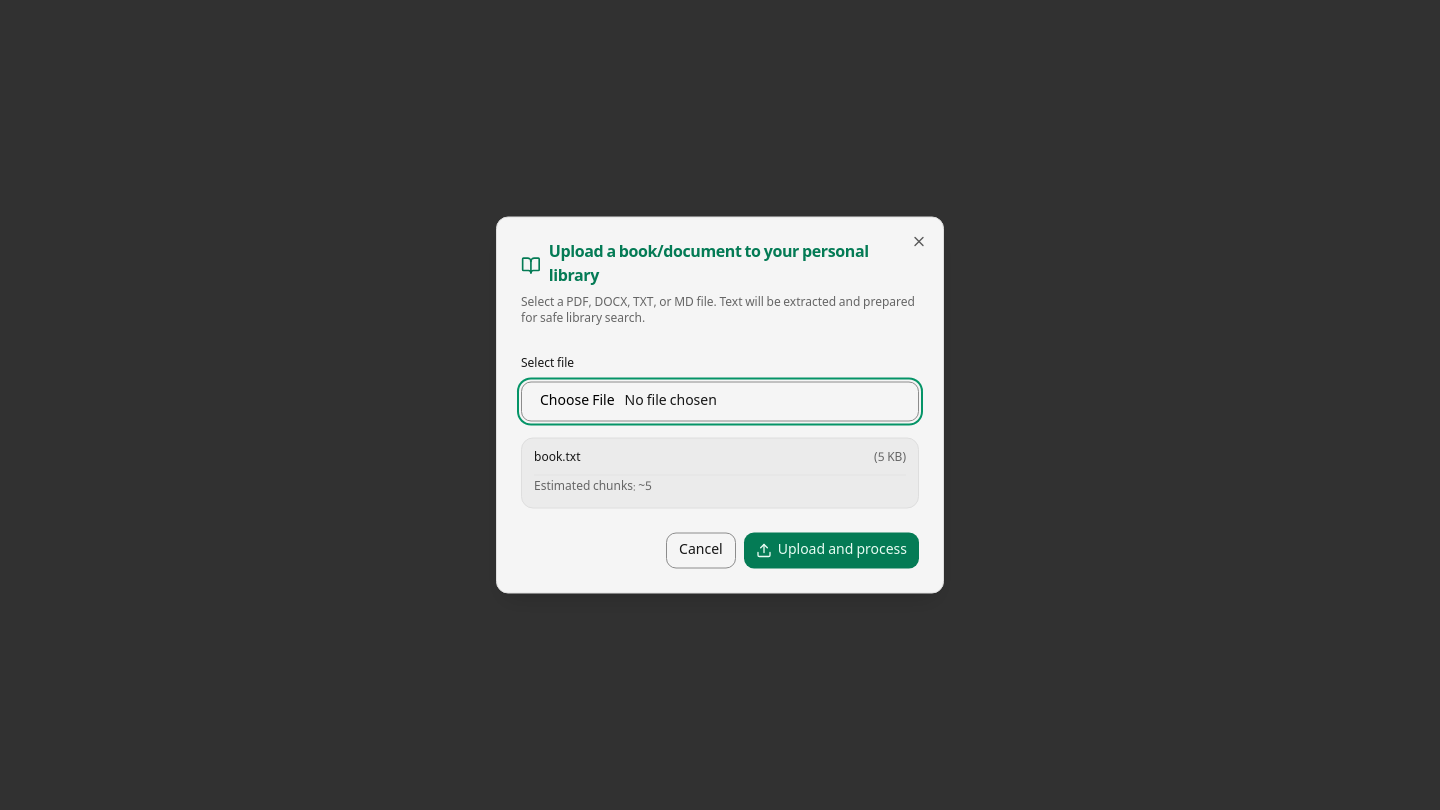
SourceUploadDialog — ingest failure feedback › shows the failure even if the ingest failed before reporting any progress
Earlier steps of the test are not shown.
What coordinates should you click on to do the following:
click the button "Upload and process"
I would click on:
 (831, 550)
Its box is [744, 532, 919, 568].
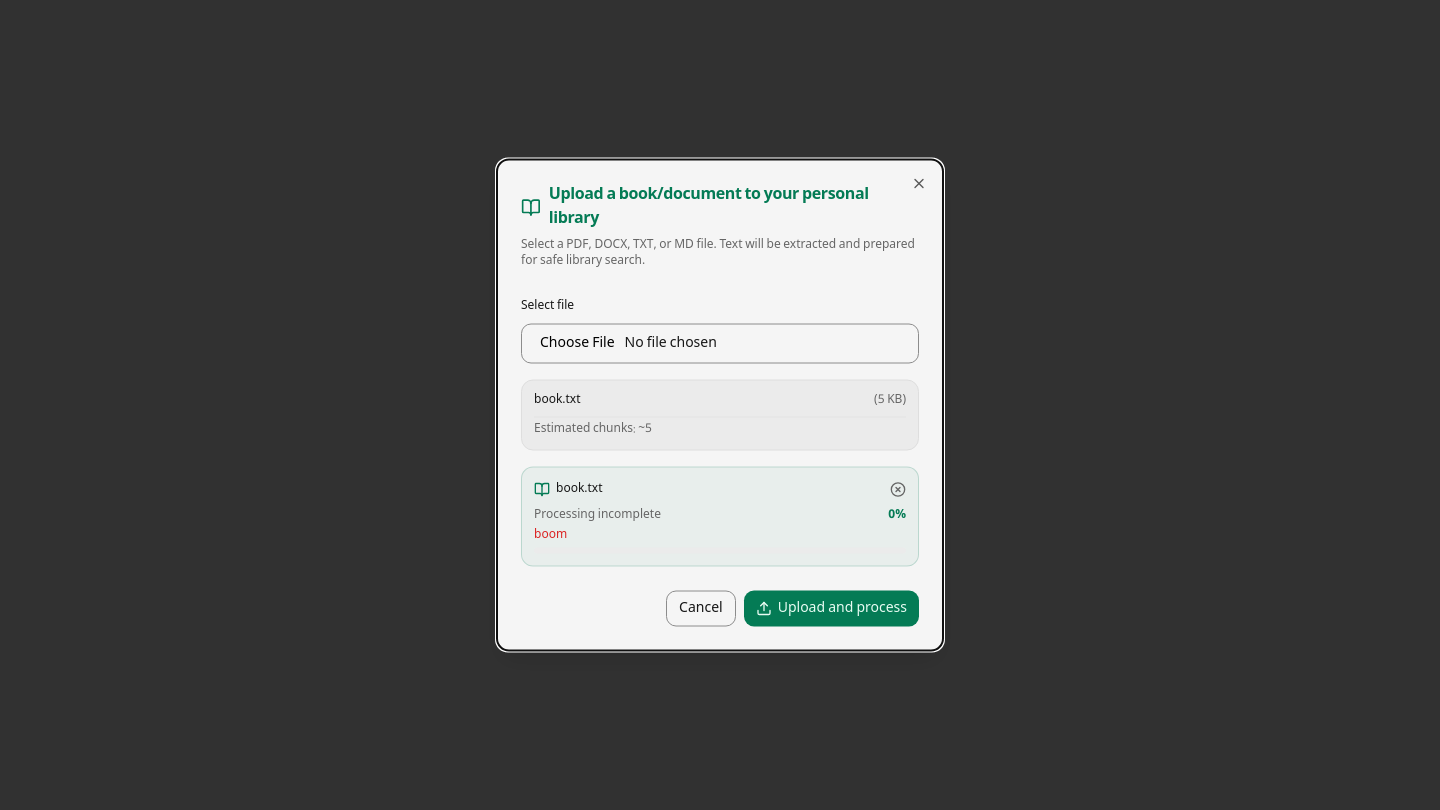
Check: the text "Processing incomplete" is shown, box [534, 508, 661, 524]
Check: the message reads "boom", box [534, 524, 567, 546]
